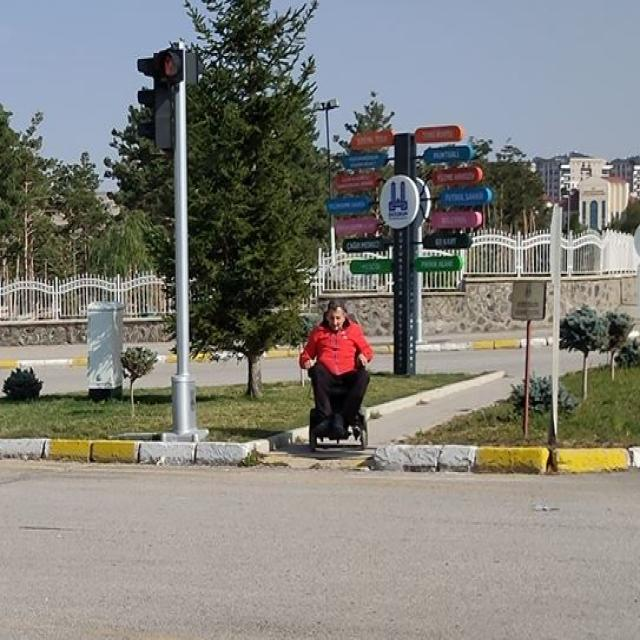wheelchairs: (301, 354, 368, 459)
